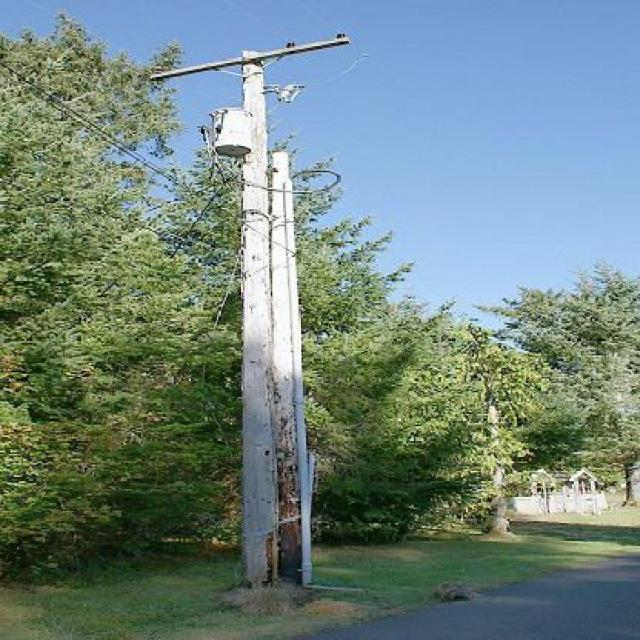pole: (154, 34, 360, 583)
